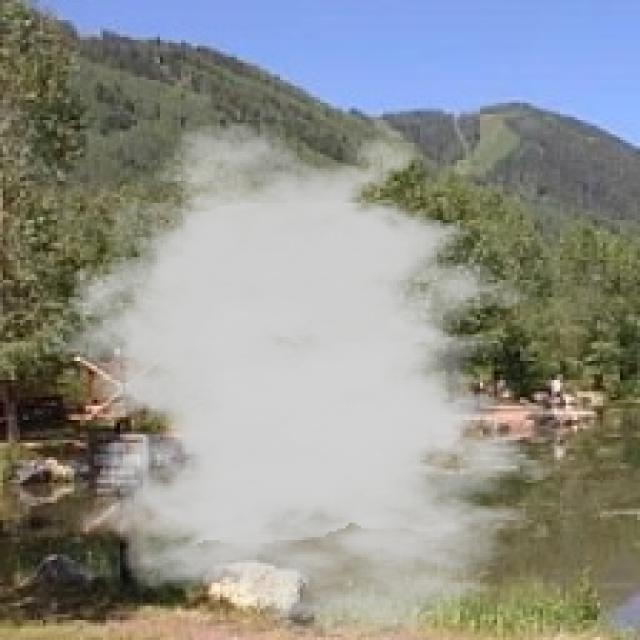Smoke: (37, 120, 589, 637)
